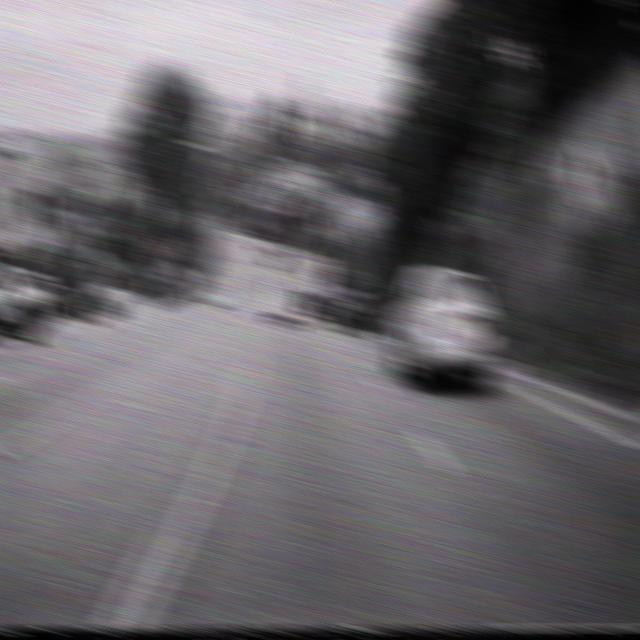pedestrianCrossing: (558, 134, 608, 214)
